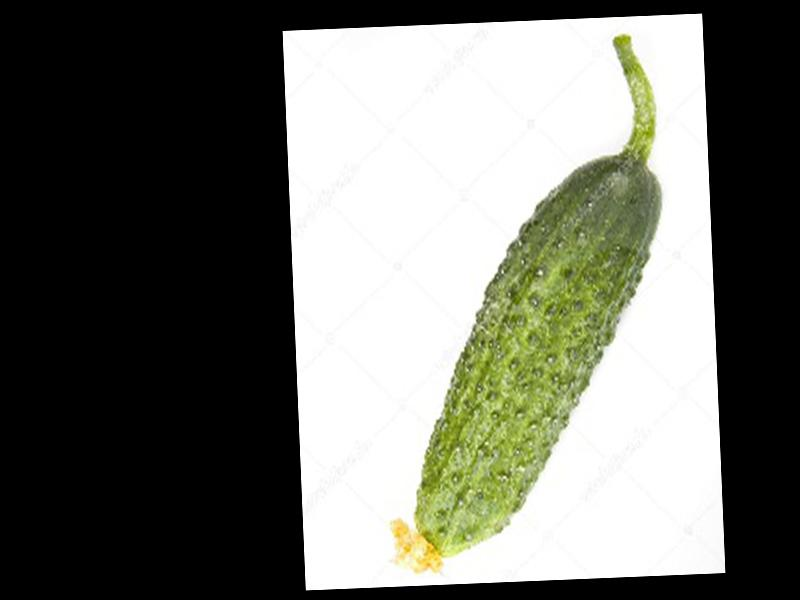Cucumber: (367, 38, 677, 577)
